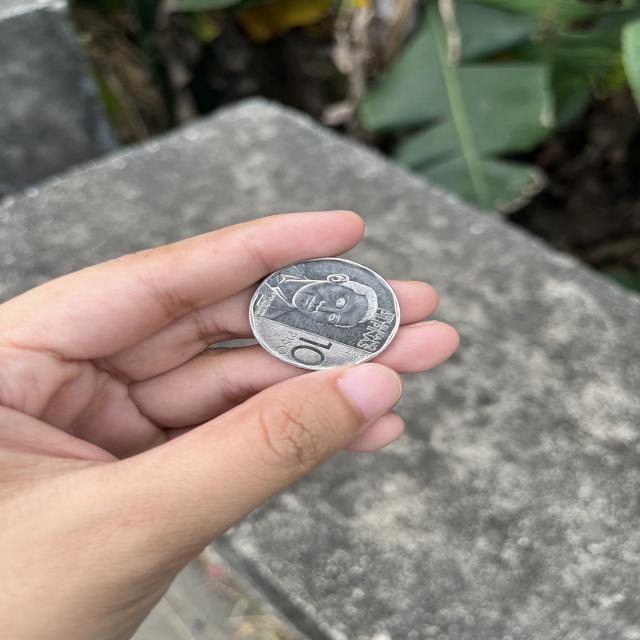10_New_Front: (278, 323, 348, 381)
